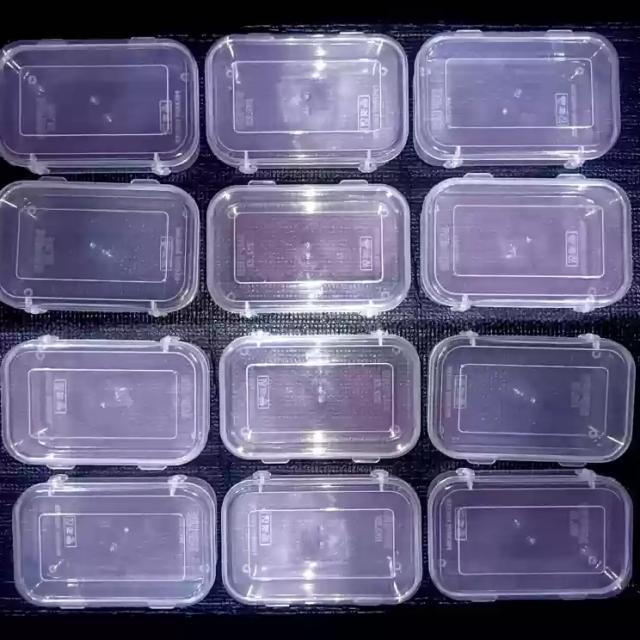Single-Use-Plastic: (420, 174, 631, 311), (206, 34, 408, 172), (1, 335, 209, 469), (415, 31, 620, 166), (428, 331, 635, 463), (208, 180, 410, 314), (0, 38, 199, 173), (221, 471, 421, 605), (12, 476, 215, 608), (429, 469, 632, 601), (0, 180, 199, 314), (219, 331, 420, 462)
